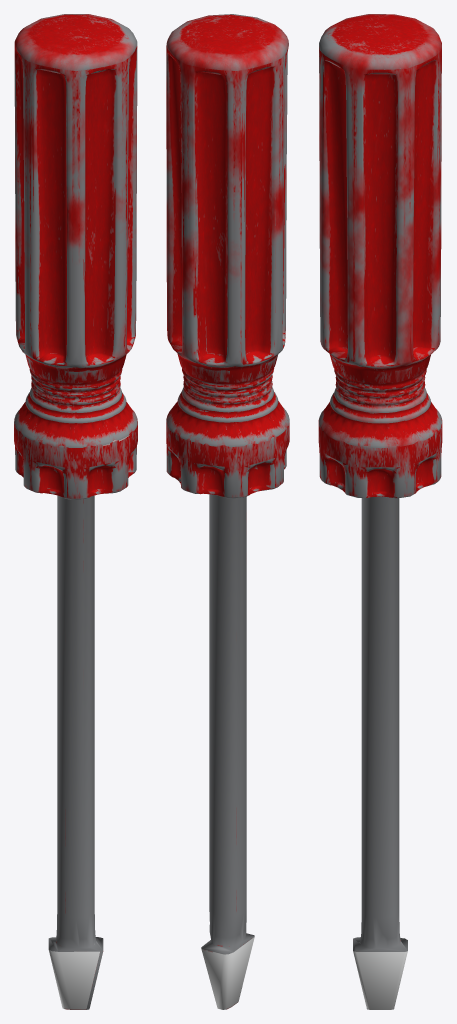
Rendered from SCREWDRIVER.fbx.
The picture shows the model from 3 angles, left to right: view 1: azimuth 90°, elevation 25°; view 2: azimuth 150°, elevation 25°; view 3: azimuth 270°, elevation 25°; orthographic projection.
Visible parts, largest first — view 1: Cylinder; view 2: Cylinder; view 3: Cylinder.
Boxes of the visible parts, bbox=[...] form: Cylinder: bbox=[14, 14, 137, 1009]; Cylinder: bbox=[166, 14, 289, 1009]; Cylinder: bbox=[318, 14, 442, 1009].
Bounding box in the file's own units: 7.81 × 67.76 × 7.8.
